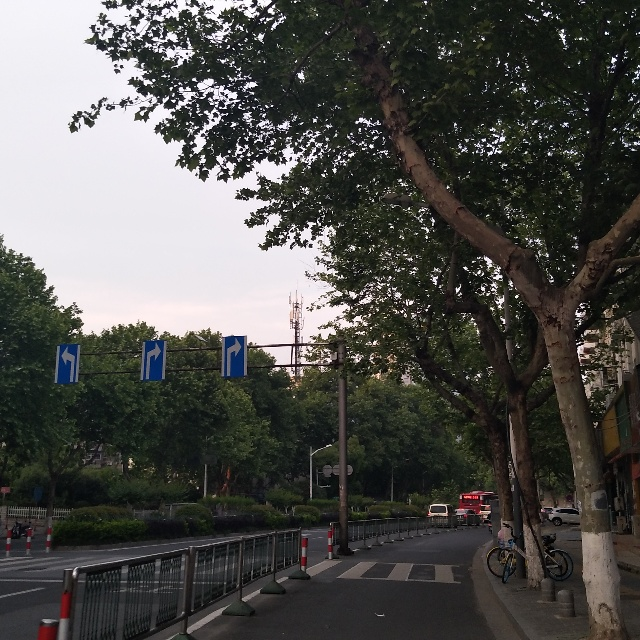left: (57, 344, 79, 380)
right: (223, 340, 244, 378), (144, 342, 165, 377)
